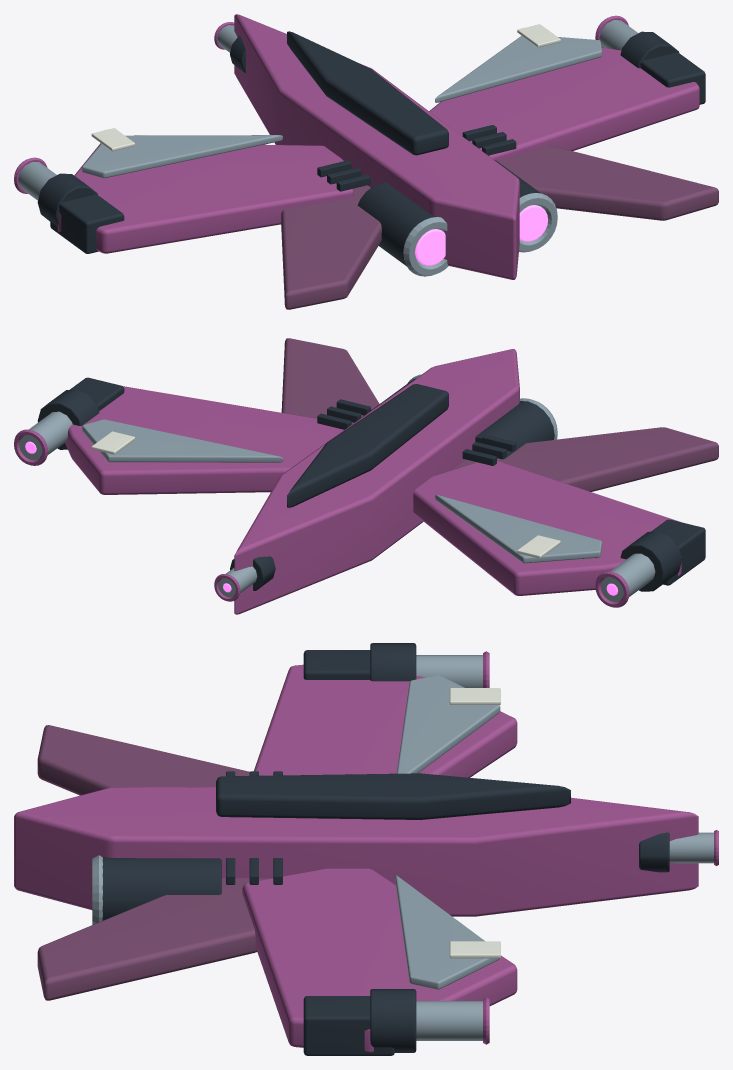
Rendered from miniHarpy_tesoura.glb.
3 views of the same model, one above another, from view 1: azimuth 30°, elevation 25°; view 2: azimuth 150°, elevation 25°; view 3: azimuth 270°, elevation 25° (orthographic). The views are drawn at different scales.
Visible parts, largest first — view 1: miniHarpy | TESOURA | armor, miniHarpy | Graphite chassis, miniHarpy | TESOURA | secondary, miniHarpy | Titanium, miniHarpy | TESOURA | energy, miniHarpy | Ivory identification; view 2: miniHarpy | TESOURA | armor, miniHarpy | Graphite chassis, miniHarpy | TESOURA | secondary, miniHarpy | Titanium, miniHarpy | Ivory identification; view 3: miniHarpy | TESOURA | armor, miniHarpy | Graphite chassis, miniHarpy | TESOURA | secondary, miniHarpy | Titanium, miniHarpy | Ivory identification.
Part boxes in pixels (<box>): miniHarpy | TESOURA | armor: <box>14,14,699,279</box>; miniHarpy | Graphite chassis: <box>37,31,705,266</box>; miniHarpy | TESOURA | secondary: <box>281,145,718,309</box>; miniHarpy | Titanium: <box>18,20,638,276</box>; miniHarpy | TESOURA | energy: <box>415,205,547,265</box>; miniHarpy | Ivory identification: <box>91,24,560,151</box>; miniHarpy | TESOURA | armor: <box>14,349,681,614</box>; miniHarpy | Graphite chassis: <box>37,377,705,591</box>; miniHarpy | TESOURA | secondary: <box>281,338,718,491</box>; miniHarpy | Titanium: <box>19,374,655,601</box>; miniHarpy | Ivory identification: <box>91,431,560,558</box>; miniHarpy | TESOURA | armor: <box>14,651,718,1052</box>; miniHarpy | Graphite chassis: <box>102,643,669,1055</box>; miniHarpy | TESOURA | secondary: <box>37,725,270,1000</box>; miniHarpy | Titanium: <box>92,655,713,1040</box>; miniHarpy | Ivory identification: <box>449,688,500,958</box>.
Size of the model in its own units: 2.42 by 0.347 by 1.93.
